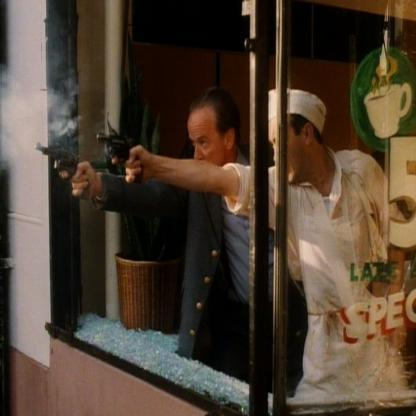gun: (26, 110, 148, 206)
